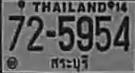2: (26, 15, 42, 50)
4: (113, 15, 129, 51)
5: (58, 15, 74, 50), (95, 15, 110, 51)
7: (8, 14, 24, 50)
9: (76, 15, 92, 50)
SRI: (49, 54, 91, 71)
